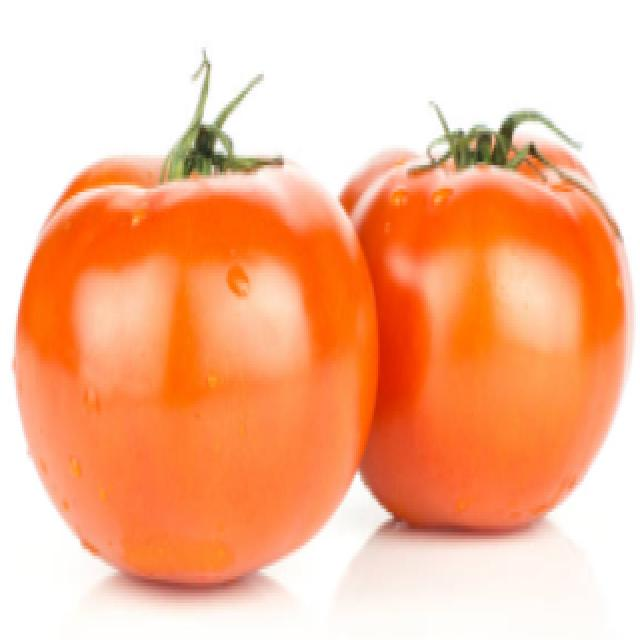Tomato: (16, 114, 378, 568), (305, 98, 628, 510)
